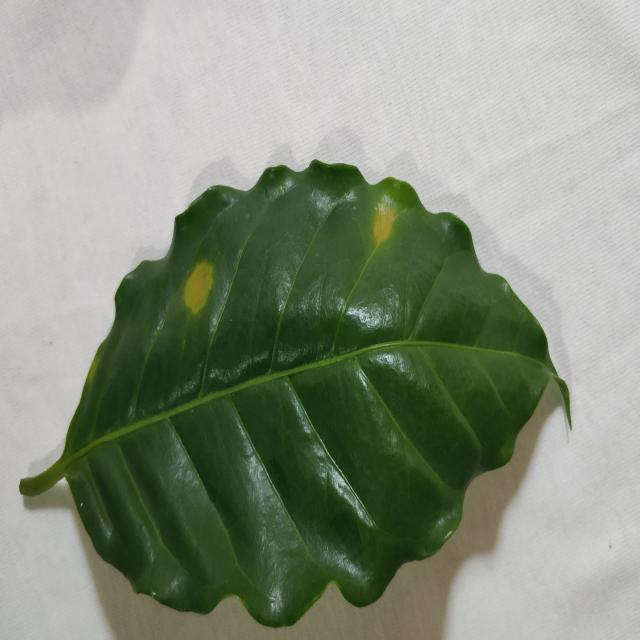Enfermedad-Roya: (16, 161, 571, 630)
